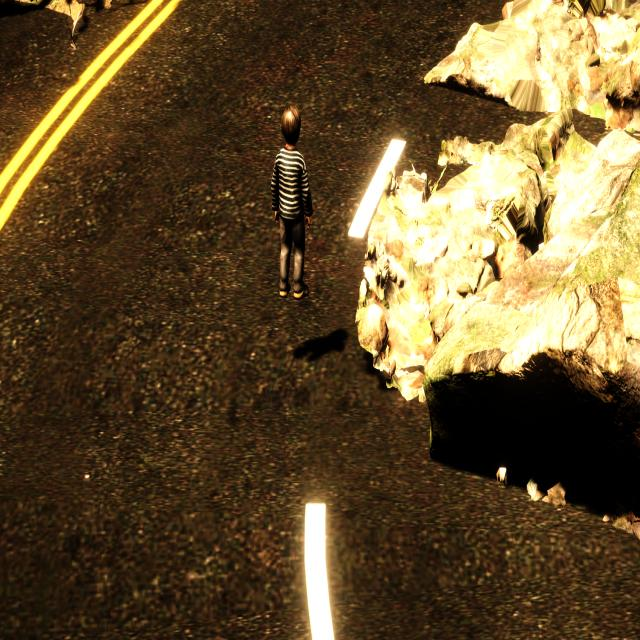Human: (263, 96, 317, 305)
